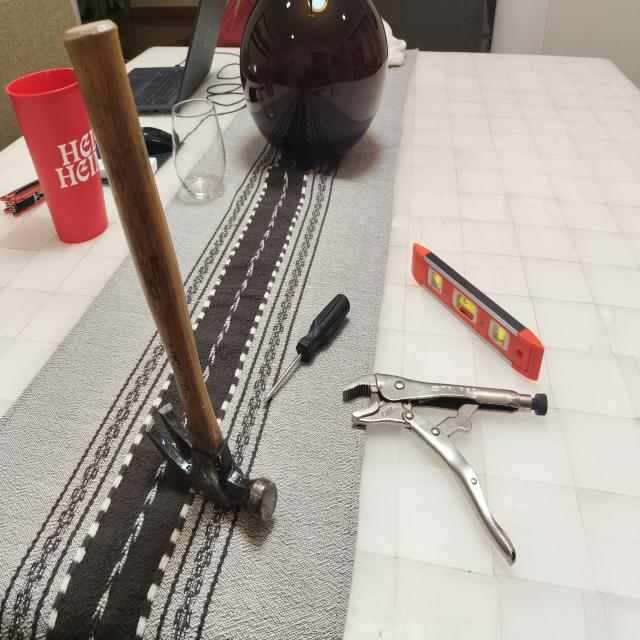Desarmador: (252, 268, 352, 420)
Martillo: (41, 12, 297, 568)
Nivel: (406, 230, 551, 398)
PinzasPresion: (335, 359, 560, 576)
